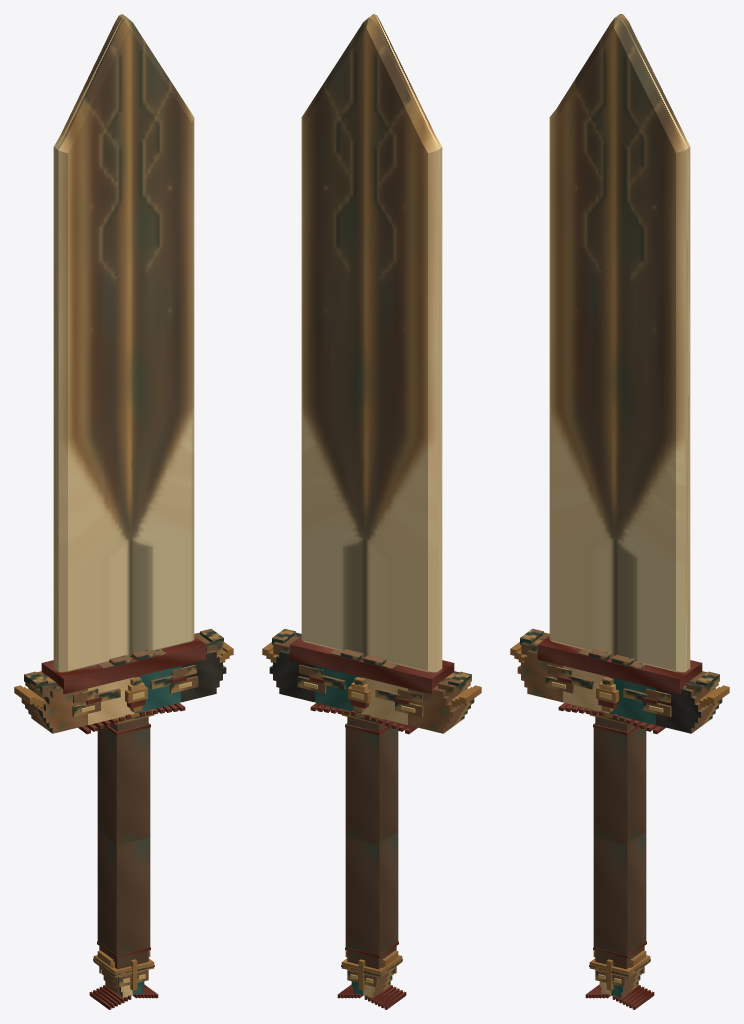
File: bronze_greatsword.obj
3 views of the same model, side by side, from view 1: azimuth 30°, elevation 25°; view 2: azimuth 150°, elevation 25°; view 3: azimuth 330°, elevation 25° (orthographic).
Visible parts, largest first — view 1: bronze_greatsword; view 2: bronze_greatsword; view 3: bronze_greatsword.
Boxes of the visible parts, x1,y1,x2,y2 form: bronze_greatsword: (14,14,233,1009); bronze_greatsword: (262,14,481,1009); bronze_greatsword: (510,14,729,1009).
Bounding box in the file's own units: 0.5548 × 2.55 × 0.1385.
